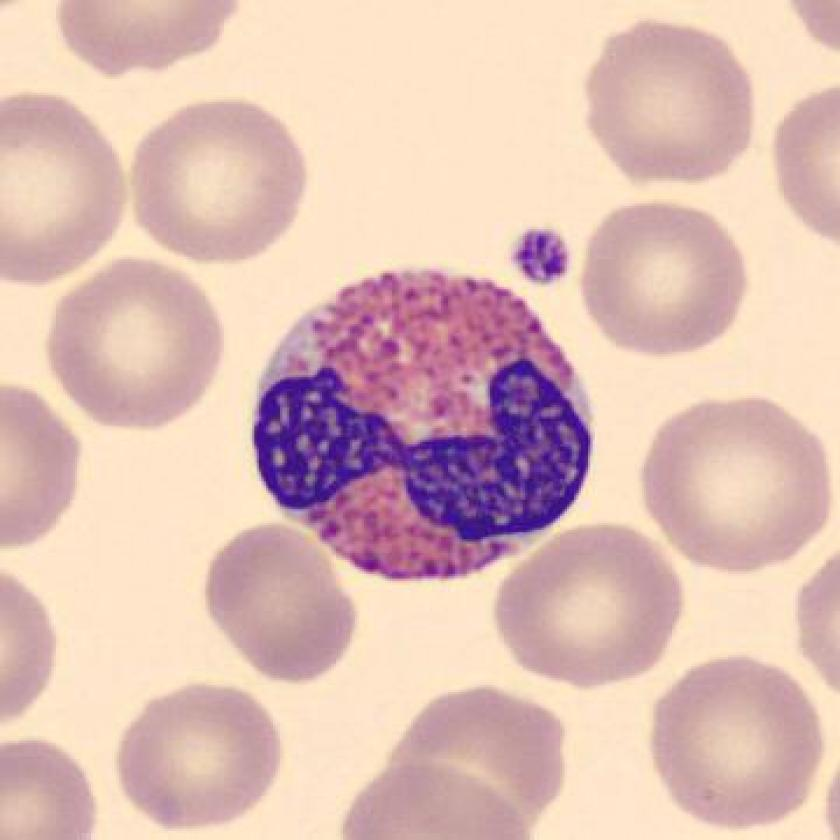eosinophil: (244, 265, 608, 593)
